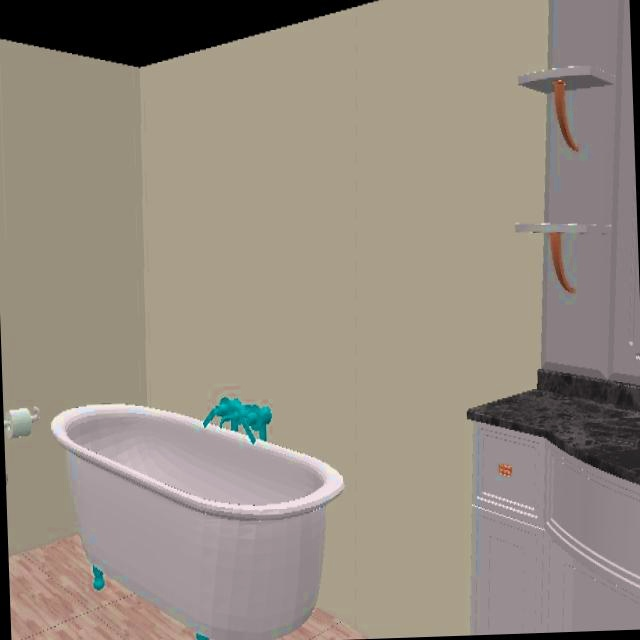bathtube: (49, 398, 345, 640)
